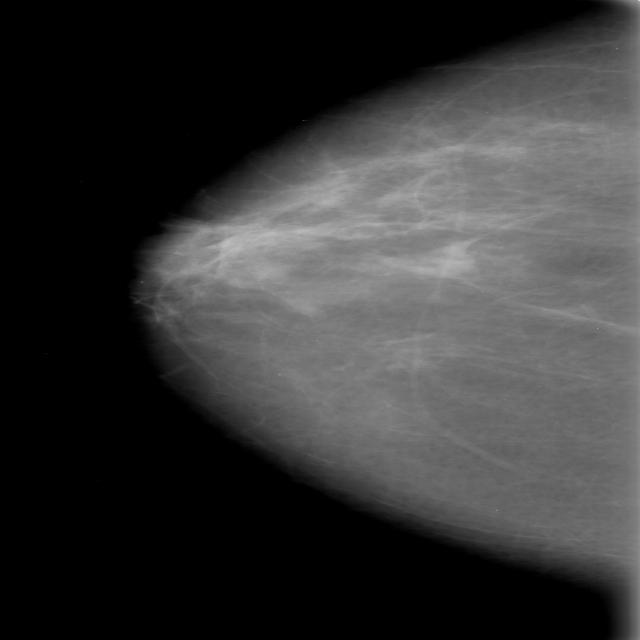normal: (120, 16, 640, 577)
